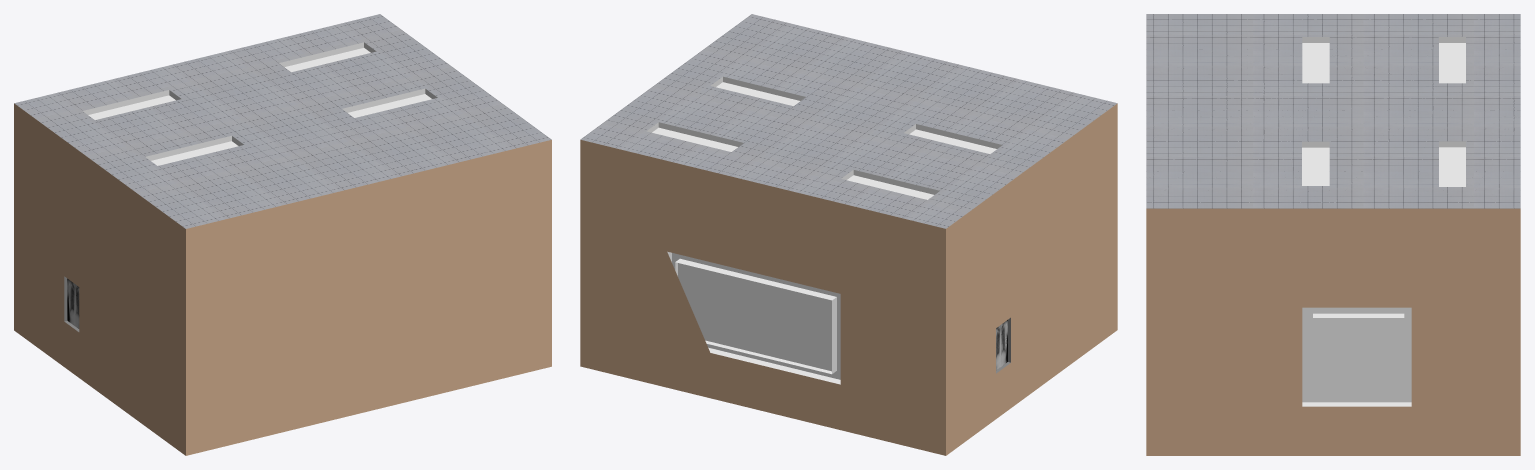
The model's file is interior_hospital.fbx.
3 views of the same model, side by side, from view 1: azimuth 30°, elevation 25°; view 2: azimuth 150°, elevation 25°; view 3: azimuth 270°, elevation 25° (orthographic). The views are drawn at different scales.
Visible parts, largest first — view 1: Cube; view 2: Cube; view 3: Cube.
Boxes of the visible parts, x1,y1,x2,y2 form: Cube: [14, 14, 551, 455]; Cube: [580, 14, 1117, 455]; Cube: [1146, 14, 1520, 455].
Size of the model in its own units: 14064 by 8466 by 11435.
20 materials, 3 textured.
